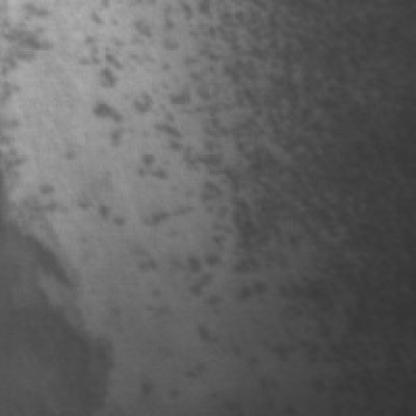pitted_surface: (34, 19, 348, 349)
